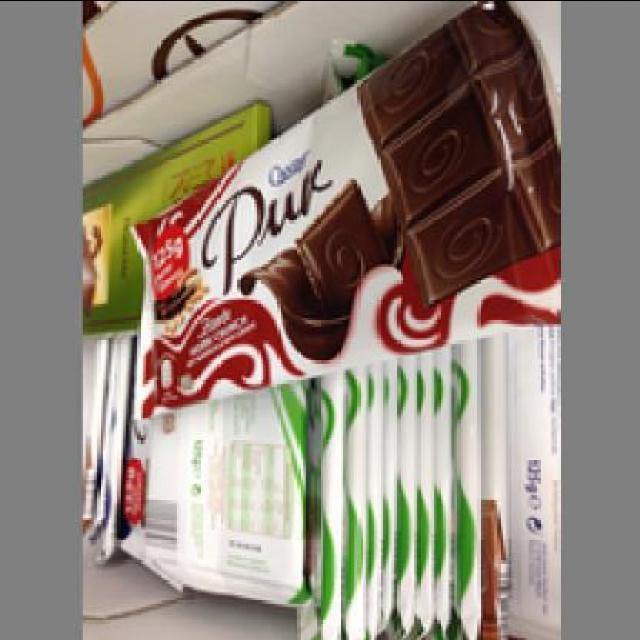Chocolate bar: (126, 6, 560, 417), (80, 103, 269, 334), (137, 383, 314, 608)
